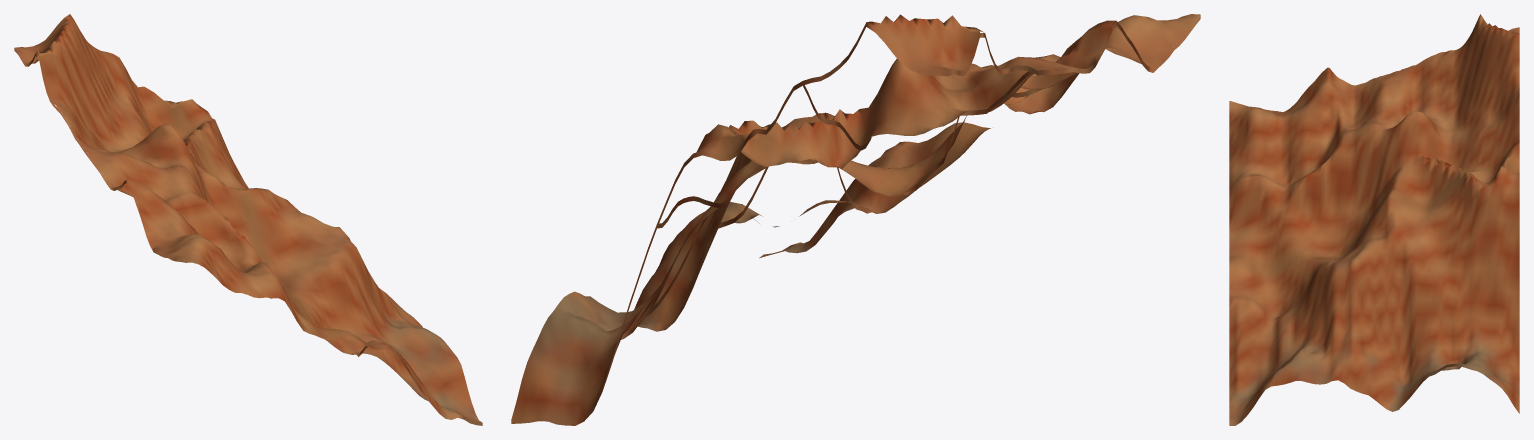
File: terrain-057.glb
3 renders of one model, left to right at view 1: azimuth 30°, elevation 25°; view 2: azimuth 150°, elevation 25°; view 3: azimuth 270°, elevation 25°, orthographic. The views are drawn at different scales.
Visible parts, largest first — view 1: terrain-057; view 2: terrain-057; view 3: terrain-057.
Part boxes in pixels (<box>): terrain-057: <box>14,14,482,425</box>; terrain-057: <box>511,14,1200,425</box>; terrain-057: <box>1229,14,1519,425</box>.
Bounding box in the file's own units: 384 × 428 × 384.
